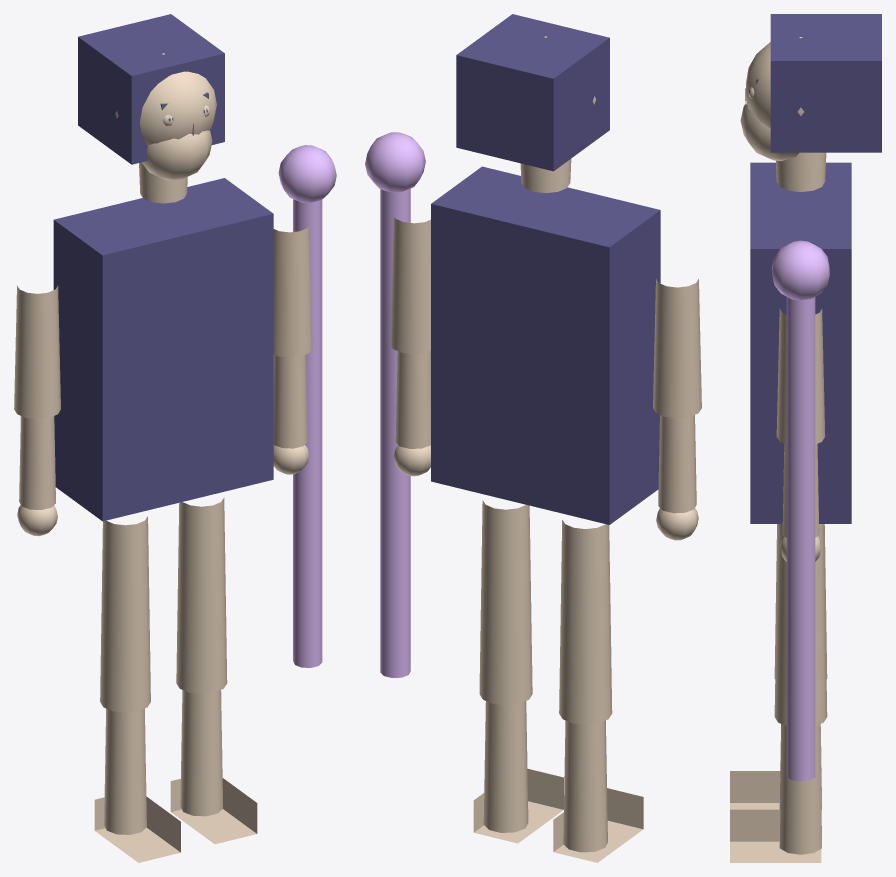
The model's file is body.glb.
3 views of the same model, side by side, from view 1: azimuth 30°, elevation 25°; view 2: azimuth 150°, elevation 25°; view 3: azimuth 270°, elevation 25° (orthographic). The views are drawn at different scales.
Visible parts, largest first — view 1: Cloth, Skin, Metal; view 2: Cloth, Skin, Metal; view 3: Cloth, Skin, Metal.
Part boxes in pixels (x1,y1,x2,y2): Cloth: [53, 14, 273, 521]; Skin: [14, 53, 312, 862]; Metal: [278, 145, 336, 667]; Cloth: [431, 14, 660, 524]; Skin: [390, 36, 701, 862]; Metal: [365, 132, 425, 677]; Cloth: [750, 14, 881, 523]; Skin: [730, 37, 827, 862]; Metal: [772, 240, 829, 781].
Bounding box in the file's own units: 0.7456 × 1.74 × 0.3.
